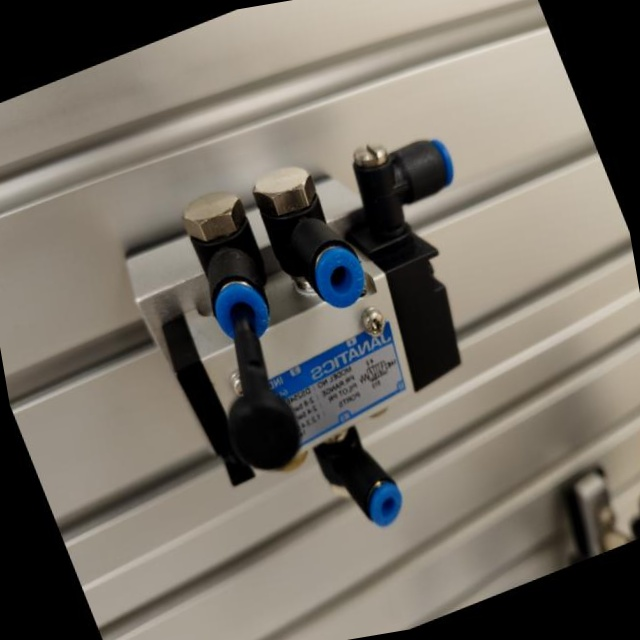5by2 DCV: (74, 82, 589, 609)
